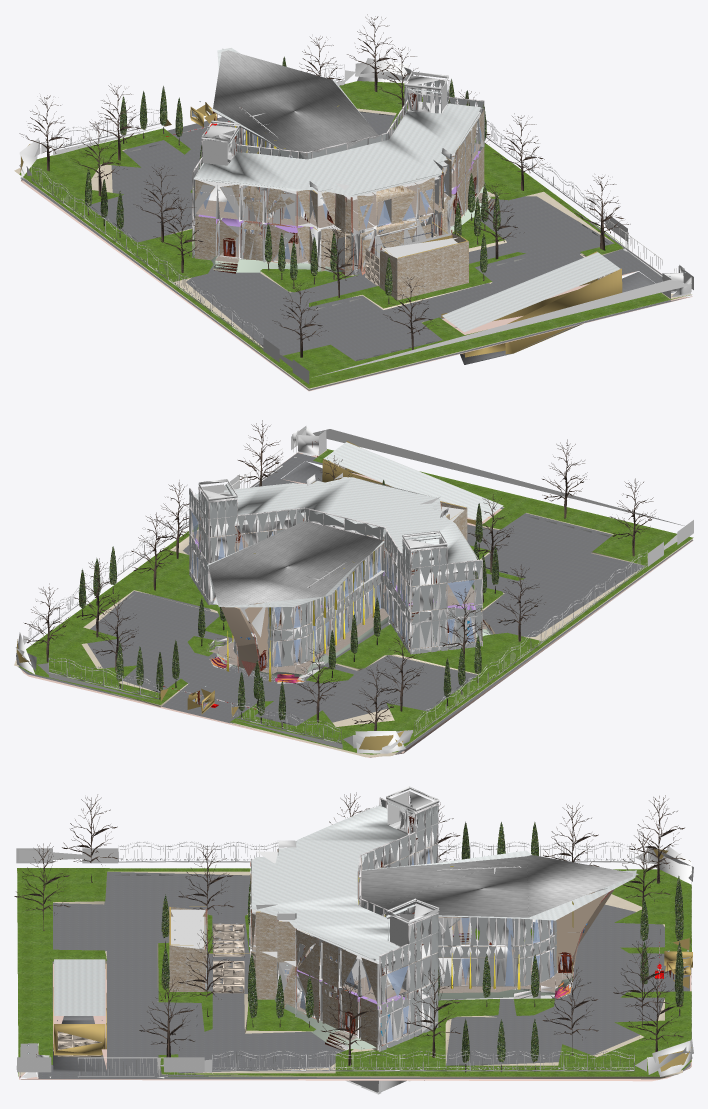
File: police_station.glb
The picture shows the model from 3 angles, top to bottom: view 1: azimuth 30°, elevation 25°; view 2: azimuth 150°, elevation 25°; view 3: azimuth 270°, elevation 25°; orthographic projection. The views are drawn at different scales.
Parts seen in each view (by area): view 1: Brick - Common Bond; view 2: Brick - Common Bond; view 3: Brick - Common Bond.
Boxes of the visible parts, bbox=[...] form: Brick - Common Bond: bbox=[14, 14, 693, 391]; Brick - Common Bond: bbox=[14, 420, 693, 757]; Brick - Common Bond: bbox=[14, 786, 693, 1094].
Bounding box in the file's own units: 56.45 × 24.87 × 75.57.
Materials: 72 (30 with a texture image).
